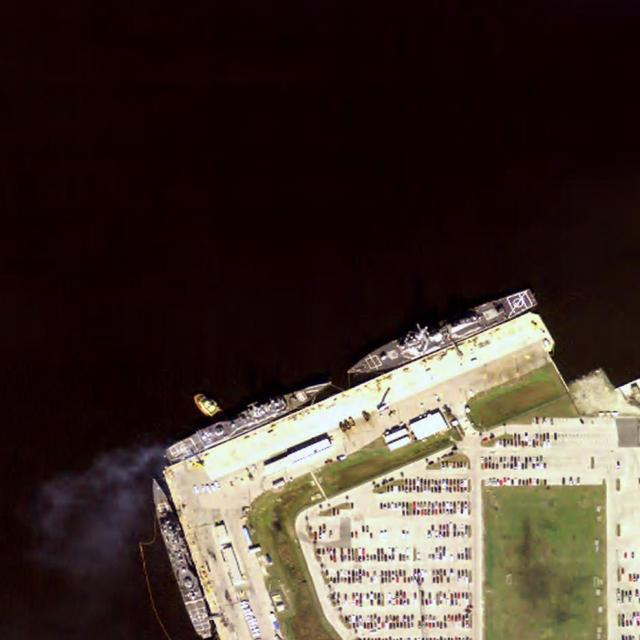Destroyer: (343, 286, 538, 383)
Frigate: (164, 375, 336, 463), (143, 473, 216, 639)
Other Ship: (189, 387, 224, 422)
